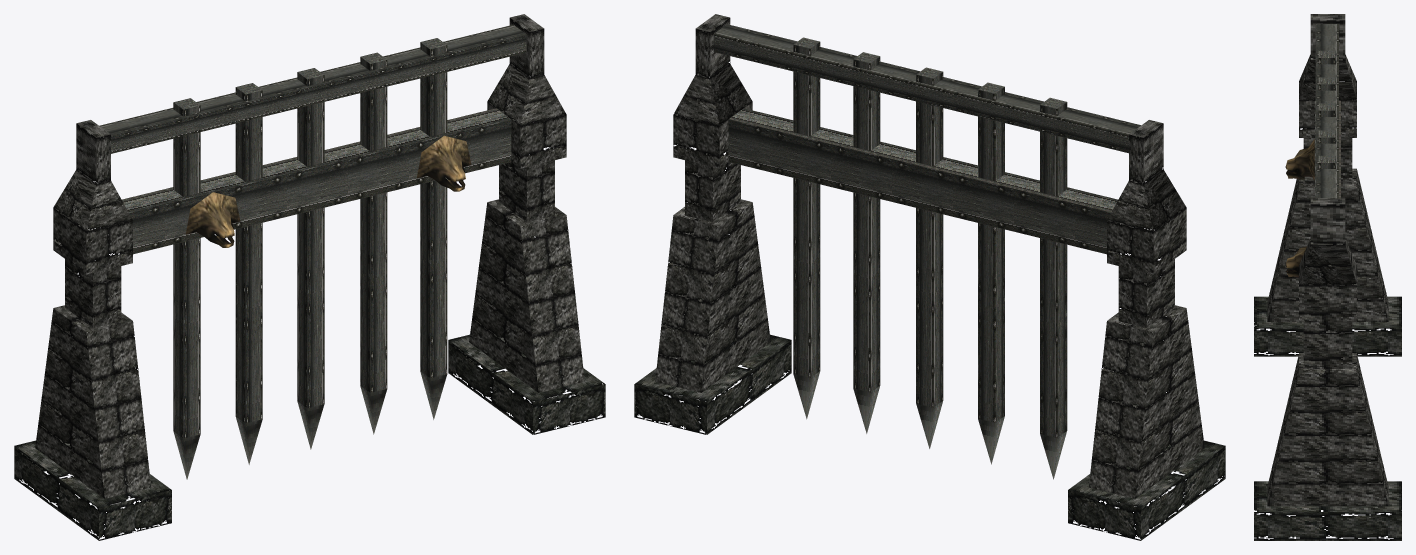
The model's file is StoneWall02.obj.
3 views of the same model, side by side, from view 1: azimuth 30°, elevation 25°; view 2: azimuth 150°, elevation 25°; view 3: azimuth 270°, elevation 25° (orthographic). The views are drawn at different scales.
Visible parts, largest first — view 1: Mesh_2, Mesh_0, Mesh_1, Mesh_3; view 2: Mesh_2, Mesh_0, Mesh_1; view 3: Mesh_0, Mesh_1, Mesh_2, Mesh_3.
Part boxes in pixels (x1,y1,x2,y2): Mesh_2: [87, 24, 526, 479]; Mesh_0: [35, 14, 584, 498]; Mesh_1: [14, 334, 605, 540]; Mesh_3: [185, 135, 471, 247]; Mesh_2: [713, 23, 1148, 479]; Mesh_0: [655, 14, 1204, 498]; Mesh_1: [634, 334, 1225, 540]; Mesh_0: [1267, 14, 1388, 506]; Mesh_1: [1254, 296, 1401, 540]; Mesh_2: [1315, 24, 1340, 265]; Mesh_3: [1285, 139, 1314, 277].
Bounding box in the file's own units: 5.95 × 4.23 × 1.73.
4 materials, 4 textured.
